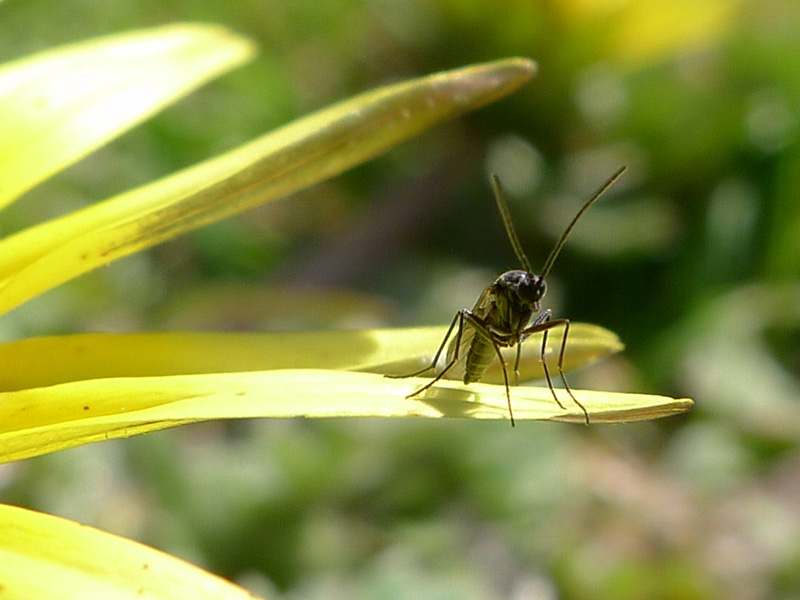Fruit fly: (408, 173, 601, 445)
